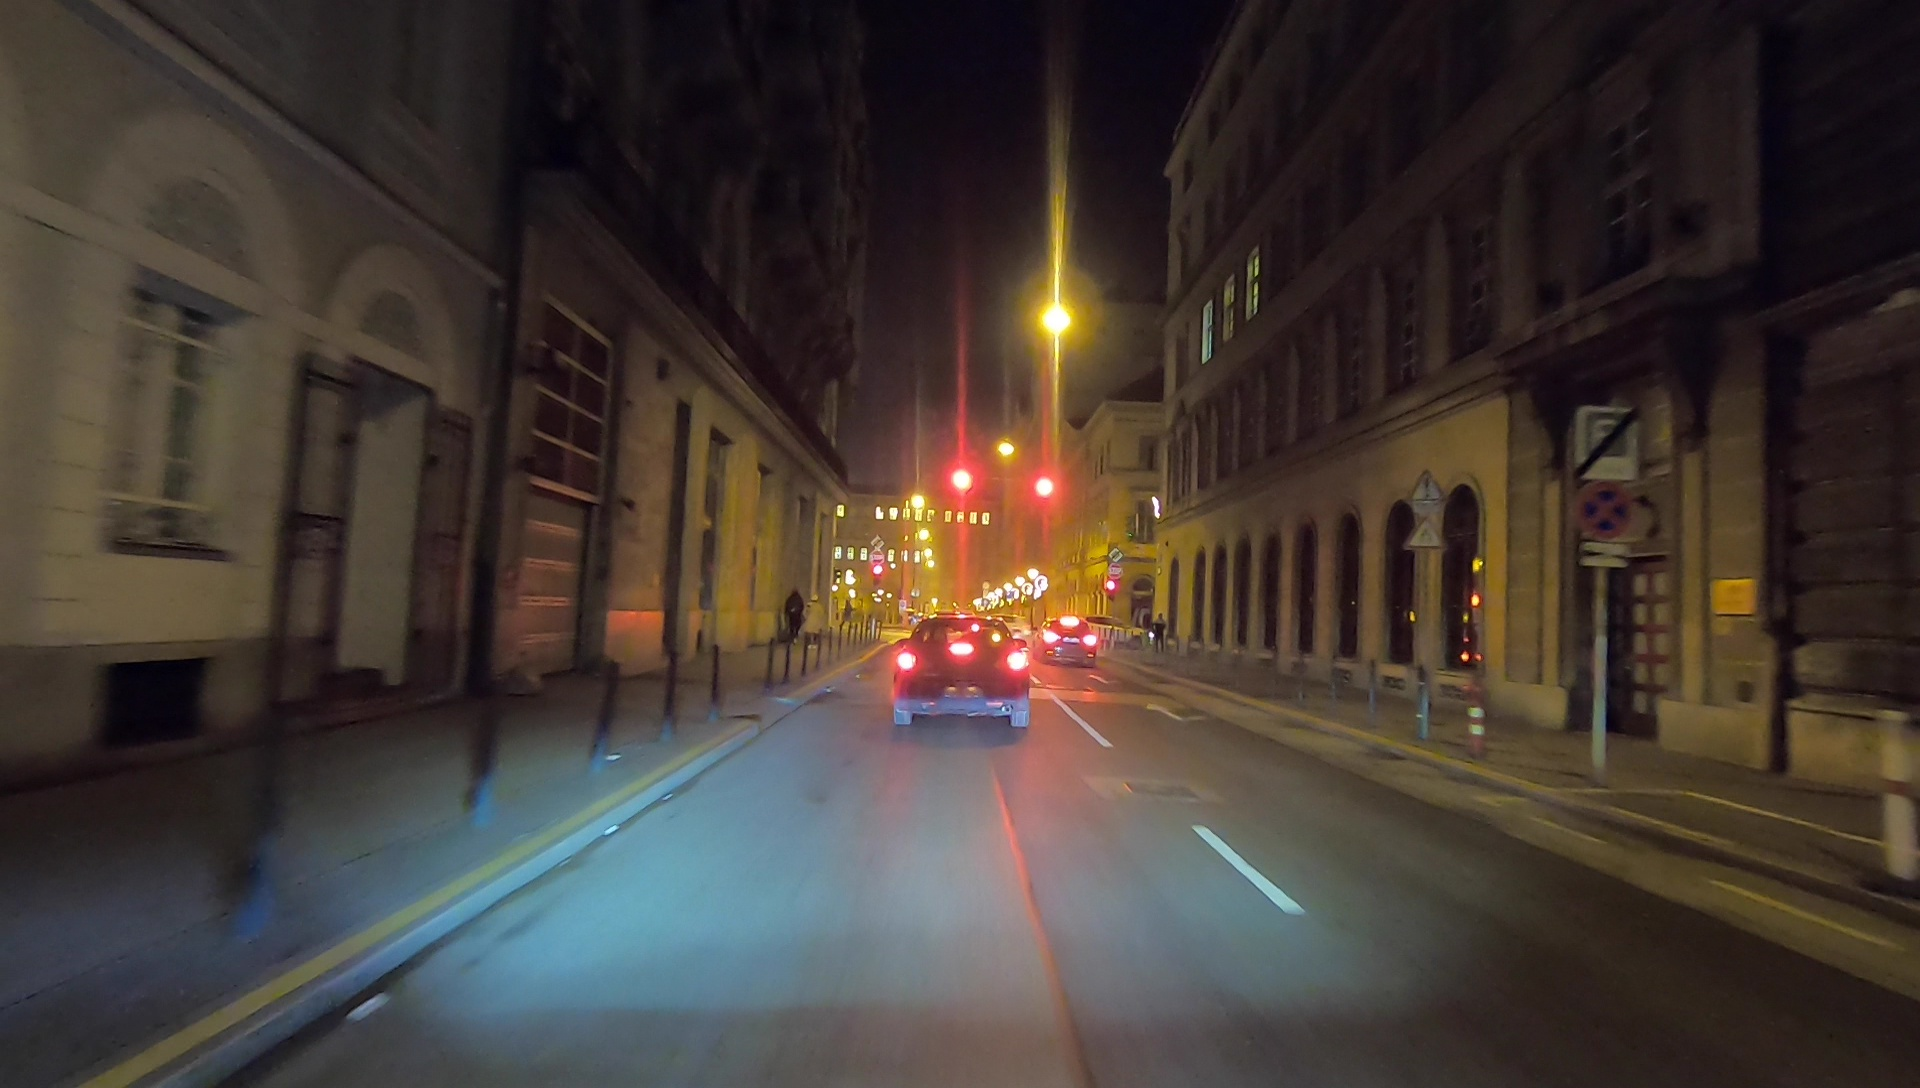person: (778, 584, 802, 641)
